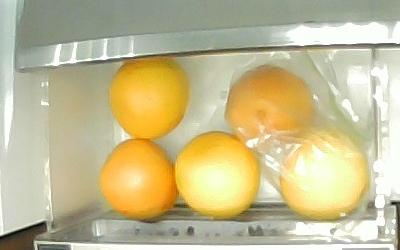grapefruit: (173, 129, 261, 218), (97, 136, 178, 217), (108, 61, 188, 139)
grapefruit_vinyl: (278, 126, 368, 221), (226, 63, 313, 147)
